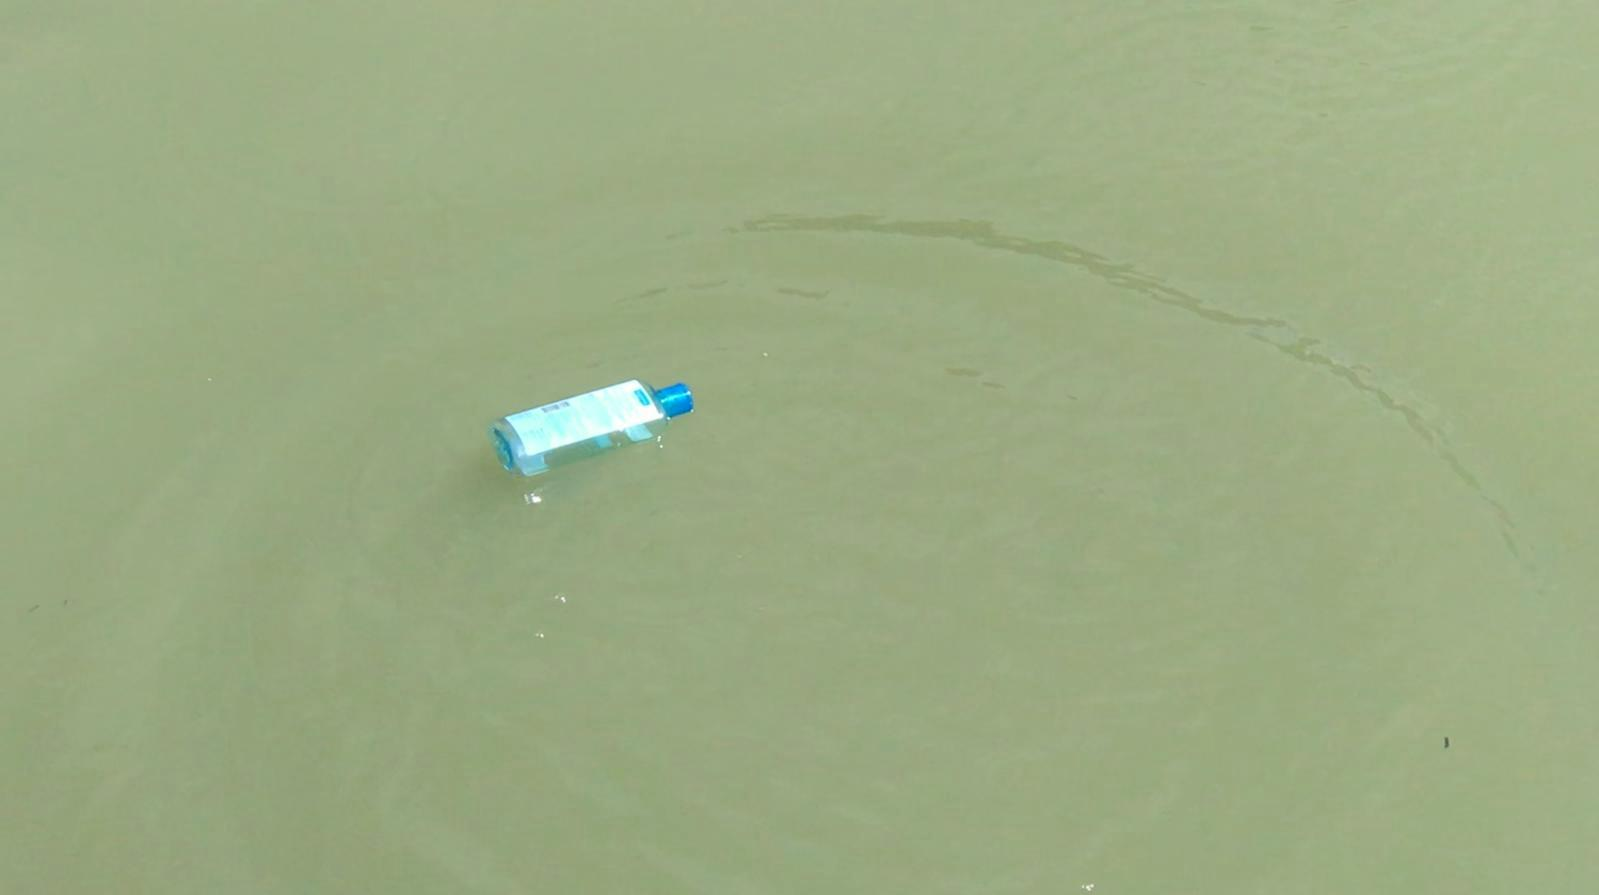Glass: (488, 363, 697, 492)
